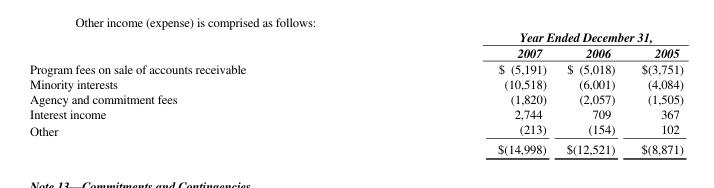table: (29, 29, 683, 156)
table column: (29, 29, 371, 156), (371, 29, 555, 156), (555, 29, 627, 156), (627, 29, 683, 156)
table column header: (29, 29, 683, 60)
table row: (29, 120, 683, 139), (29, 139, 683, 156), (29, 29, 683, 45), (29, 45, 683, 60), (29, 60, 683, 75), (29, 75, 683, 90), (29, 90, 683, 105), (29, 105, 683, 120)
table spanning cell: (371, 29, 683, 45)
